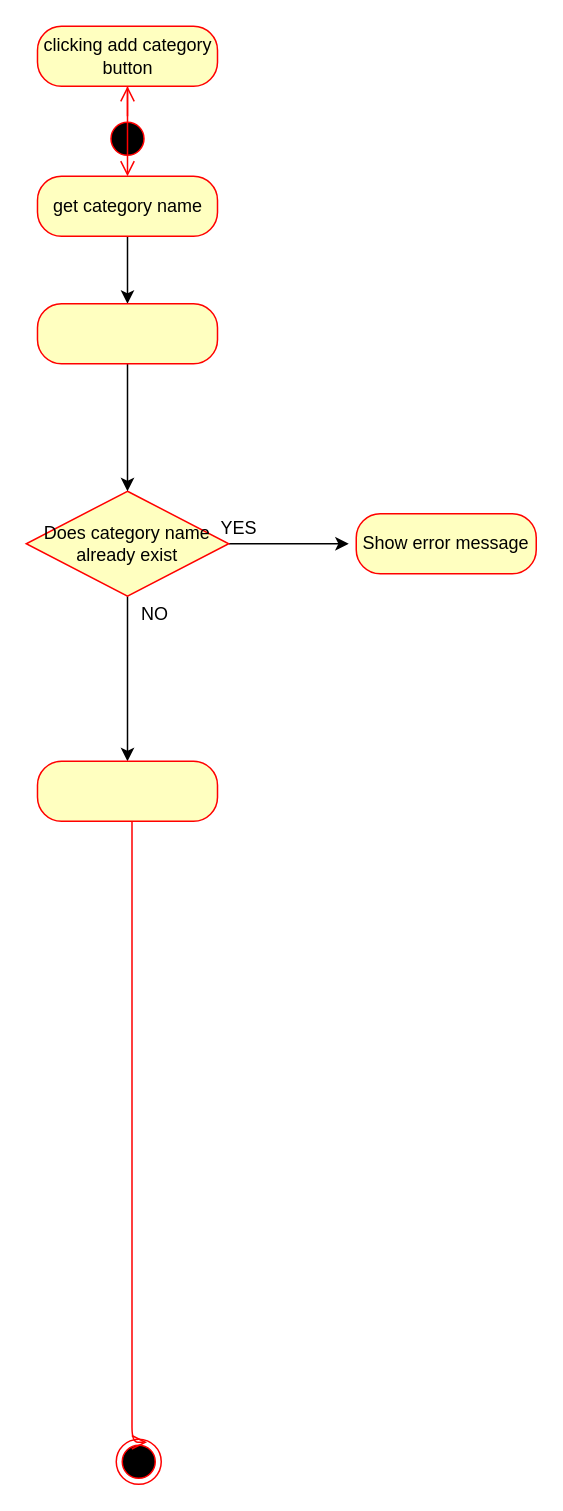
Image size: 563x1511. Some labels were removed from this diagram. Each missing label, with the box of its shape:
New Category created successfuly: (36, 760, 218, 821)
select category label: (36, 302, 218, 364)
